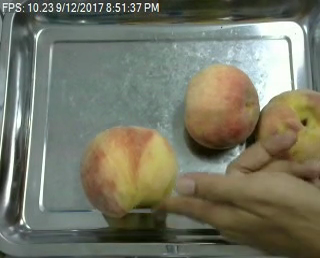Peach: (81, 124, 174, 217), (185, 63, 259, 150), (258, 87, 319, 161)
